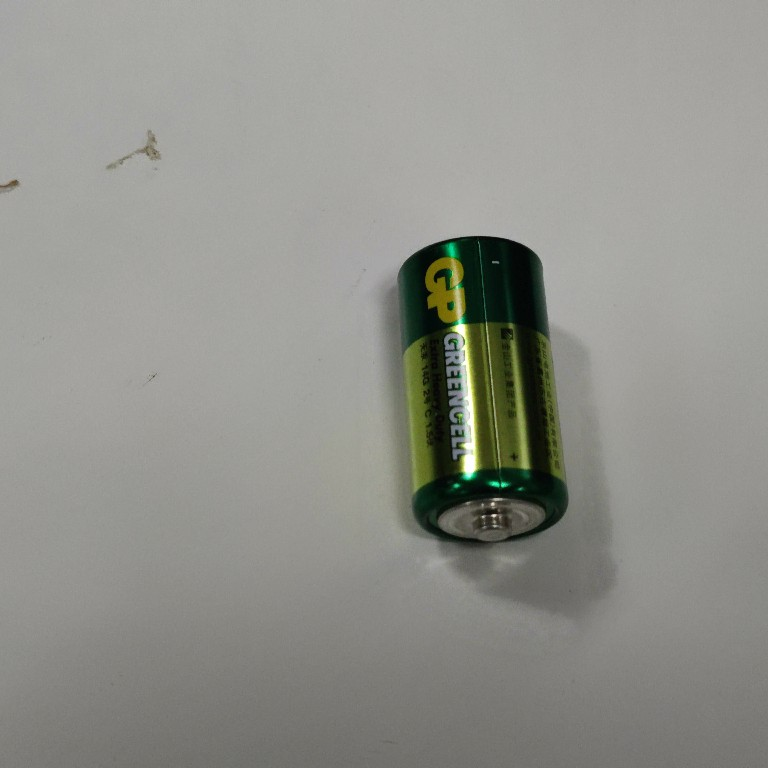charge: (388, 231, 583, 551)
